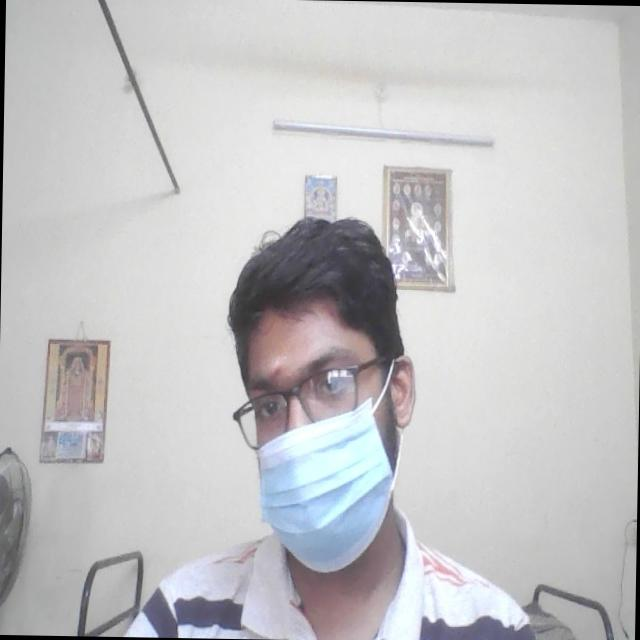Focused: (235, 303, 399, 555)
